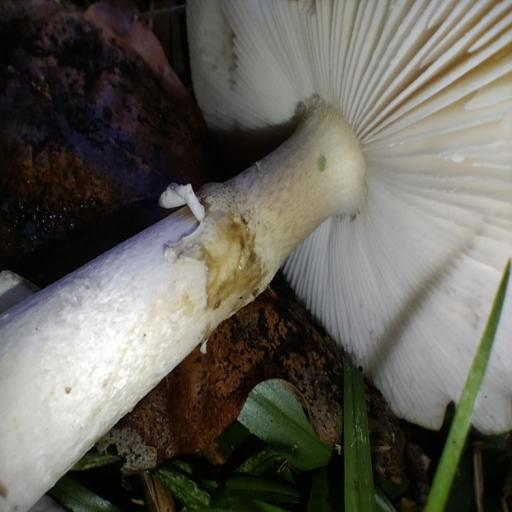Death Cap: (0, 4, 511, 511)
